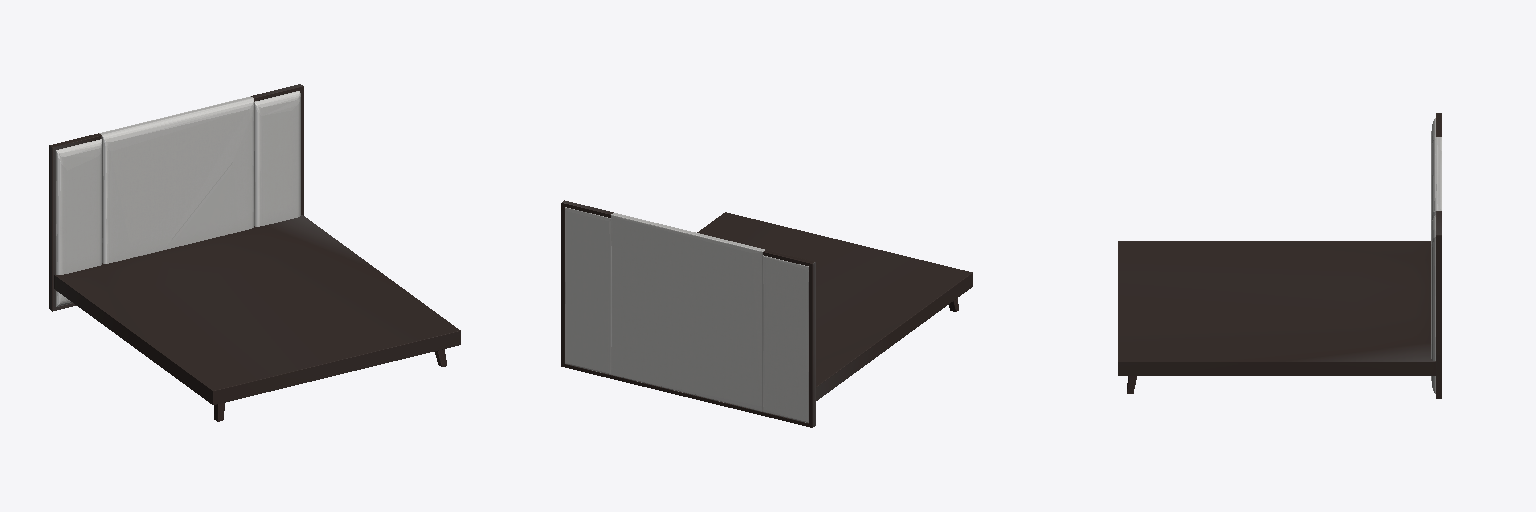
3 renders of one model, left to right at view 1: azimuth 30°, elevation 25°; view 2: azimuth 150°, elevation 25°; view 3: azimuth 270°, elevation 25°, orthographic.
Visible parts, largest first — view 1: solid_002, solid_001; view 2: solid_001, solid_002; view 3: solid_002, solid_001.
Part boxes in pixels (x1,y1,x2,y2): solid_002: (49, 84, 460, 404); solid_001: (56, 91, 300, 306); solid_001: (565, 207, 808, 422); solid_002: (561, 200, 972, 427); solid_002: (1118, 113, 1441, 398); solid_001: (1431, 118, 1441, 393).
Size of the model in its own units: 1.82 by 1.14 by 2.04.
Materials: 1 (1 with a texture image).